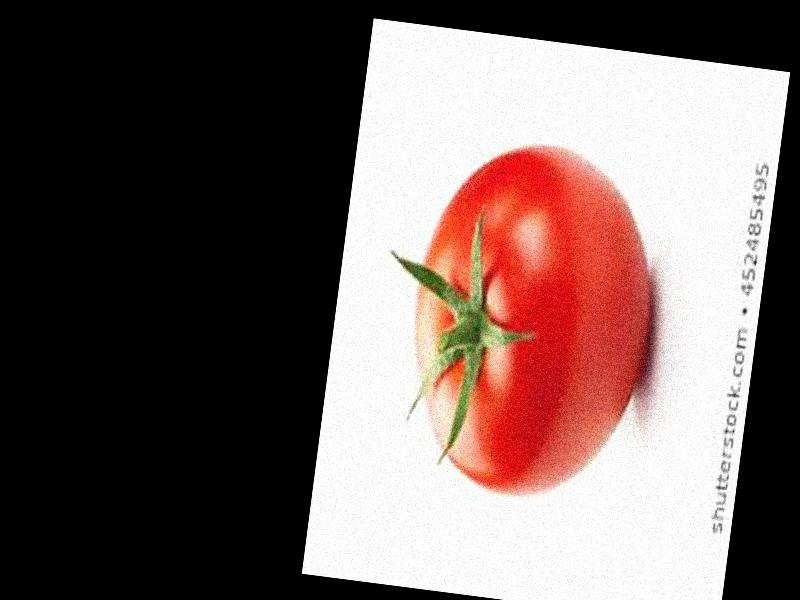Tomato: (394, 136, 671, 505)
